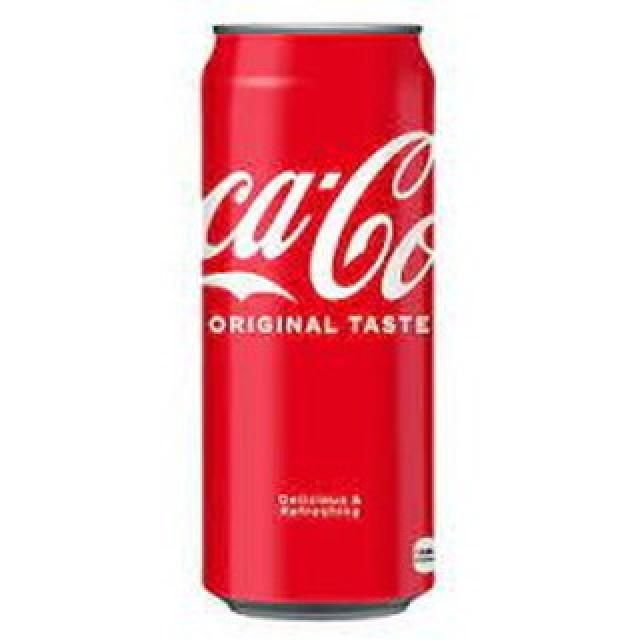can: (199, 19, 438, 623)
